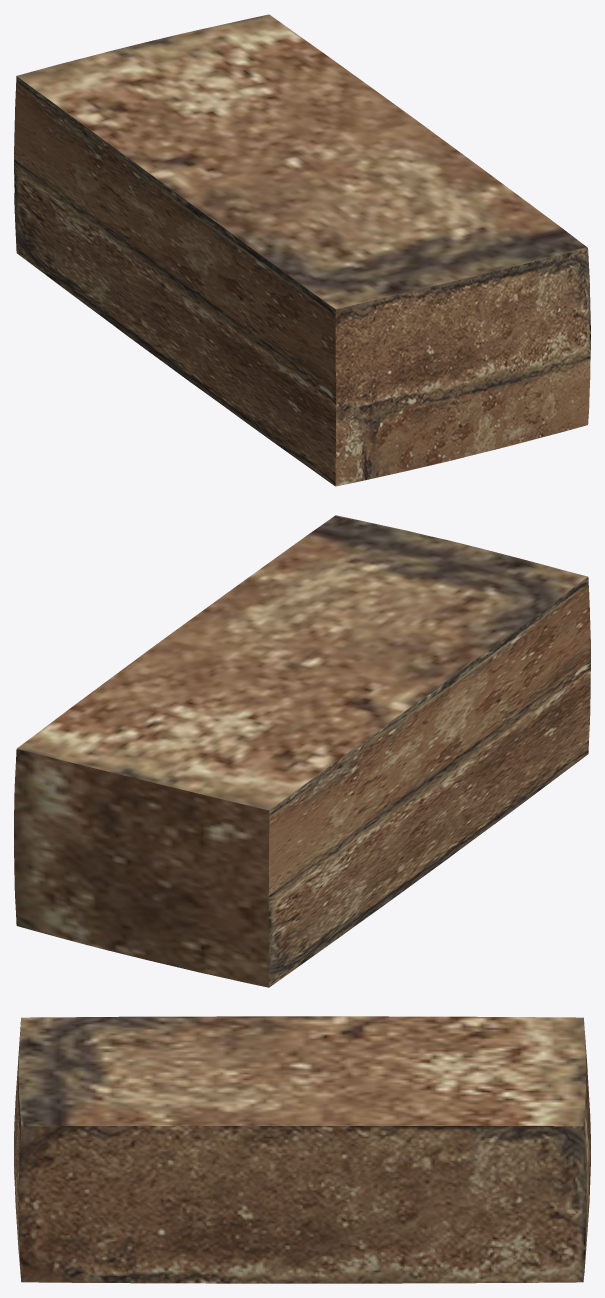
Rendered from Ladrillo3.fbx.
3 renders of one model, top to bottom at view 1: azimuth 30°, elevation 25°; view 2: azimuth 150°, elevation 25°; view 3: azimuth 270°, elevation 25°, orthographic. The views are drawn at different scales.
Parts seen in each view (by area): view 1: Ladrillo.003; view 2: Ladrillo.003; view 3: Ladrillo.003.
Part boxes in pixels (<box>): Ladrillo.003: <box>14,14,590,486</box>; Ladrillo.003: <box>14,515,590,987</box>; Ladrillo.003: <box>14,1016,590,1283</box>.
Size of the model in its own units: 150 by 101 by 328.
